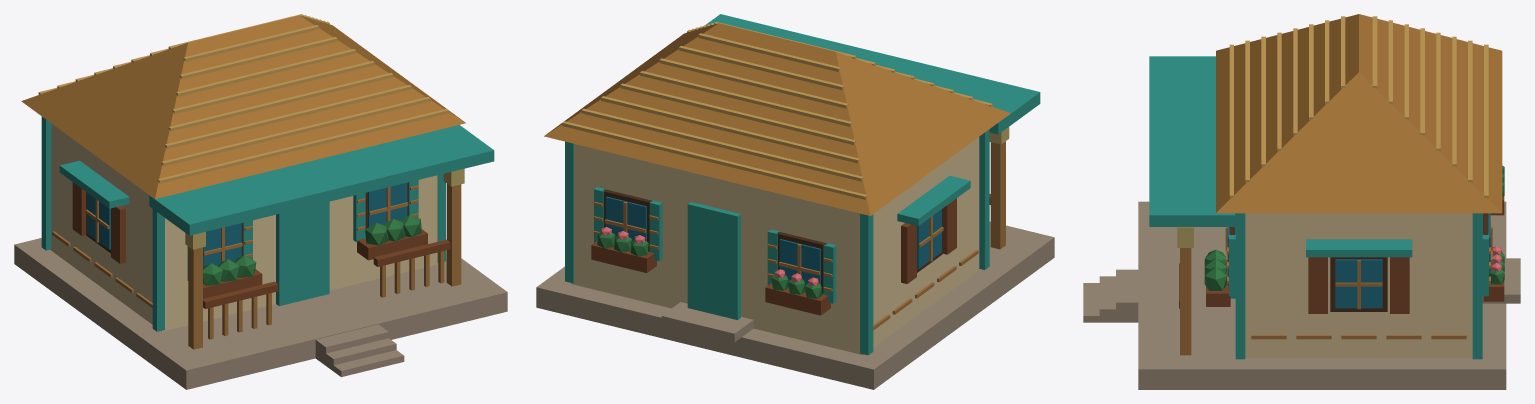
Rendered from Tropical_BeachBungalow_Showcase.glb.
3 renders of one model, left to right at view 1: azimuth 30°, elevation 25°; view 2: azimuth 150°, elevation 25°; view 3: azimuth 270°, elevation 25°, orthographic. The views are drawn at different scales.
Parts seen in each view (by area): view 1: Tropical_BeachBungalow_Showcase; view 2: Tropical_BeachBungalow_Showcase; view 3: Tropical_BeachBungalow_Showcase.
Part boxes in pixels (bbox=[...]): Tropical_BeachBungalow_Showcase: bbox=[14, 14, 507, 389]; Tropical_BeachBungalow_Showcase: bbox=[536, 14, 1054, 389]; Tropical_BeachBungalow_Showcase: bbox=[1083, 14, 1520, 389].
Size of the model in its own units: 4.85 by 3.55 by 5.35.
